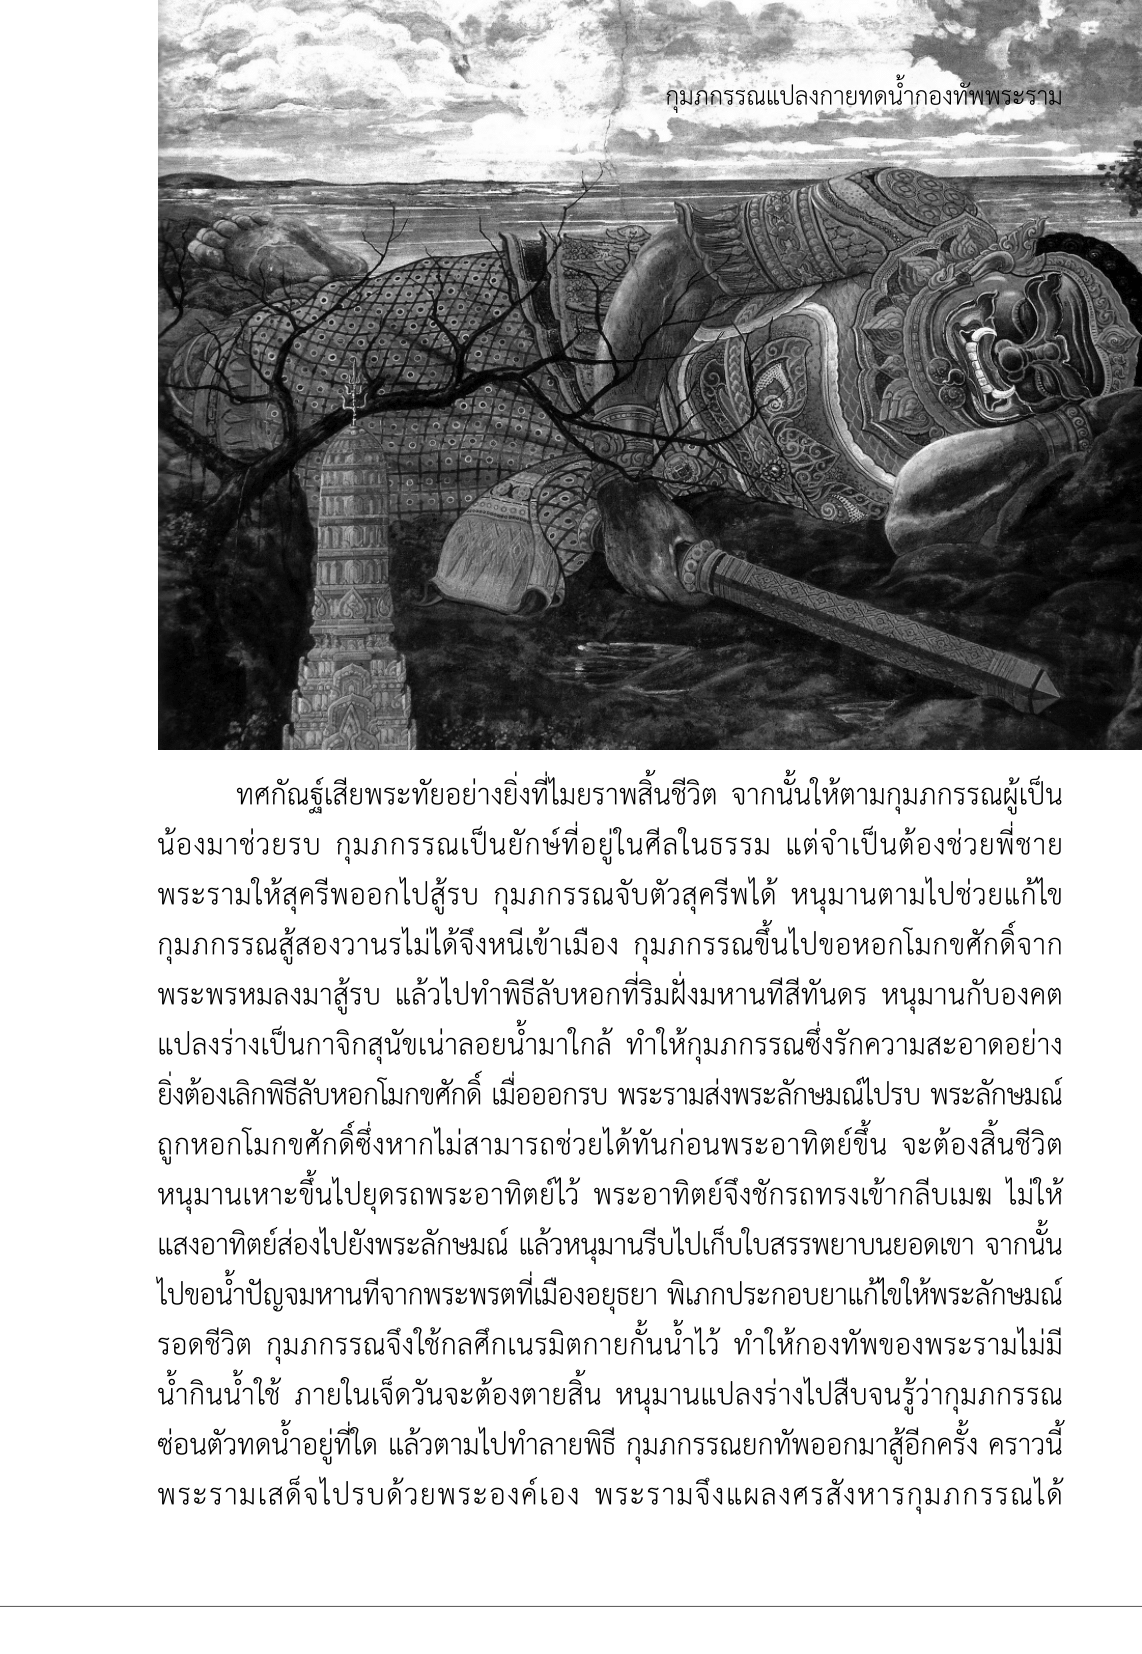thai: (153, 1264, 1067, 1521), (155, 768, 1067, 1021), (153, 1016, 1068, 1267), (665, 70, 1064, 114)
